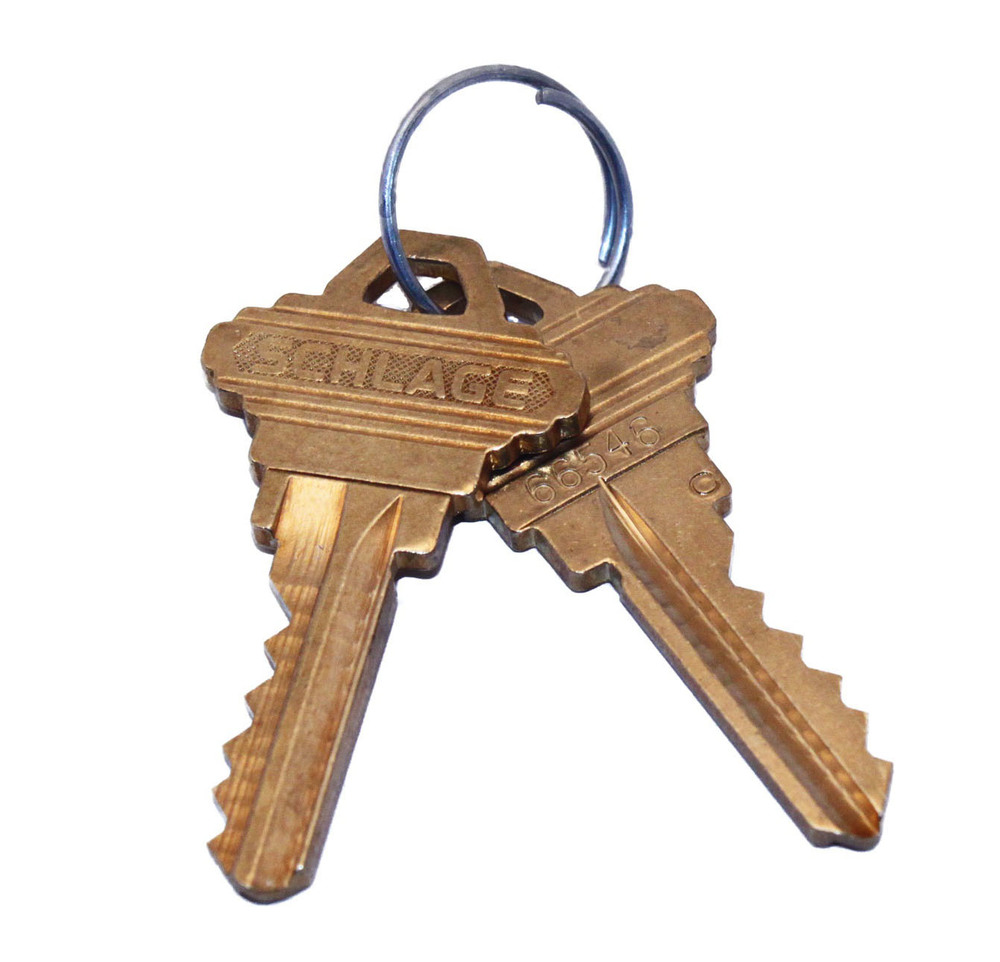key: (187, 87, 896, 911)
